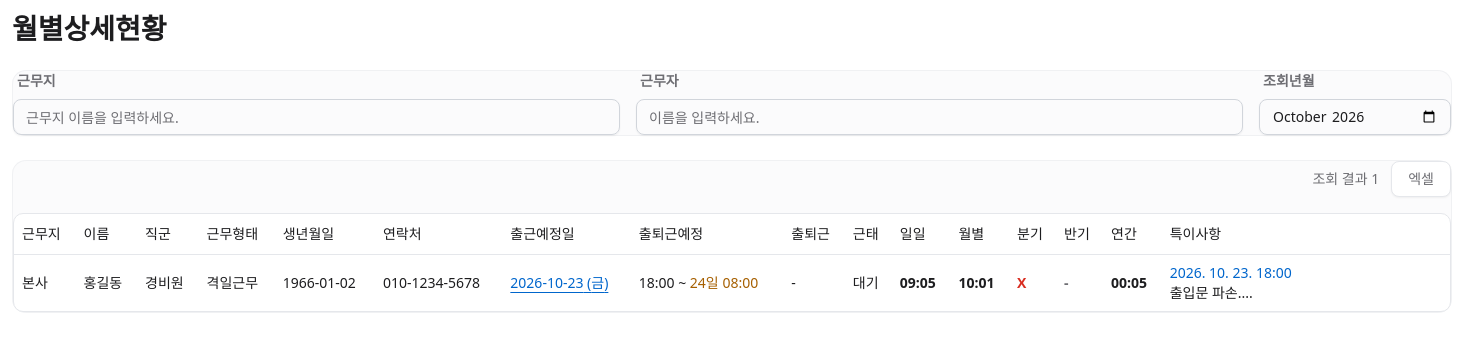
Scenario: shows the copied monthly attendance screen under its new title with worksite search and detail links
The width and height of the screenshot is (1464, 358).
Expected: the field labelled "조회년월" holds "2026-10", [1259,99,1451,135]
Expected: the button "엑셀" is enabled, [1391,161,1451,197]
In the field labelled "근무지": (316, 117) [13,99,620,135], type "없는근무지"
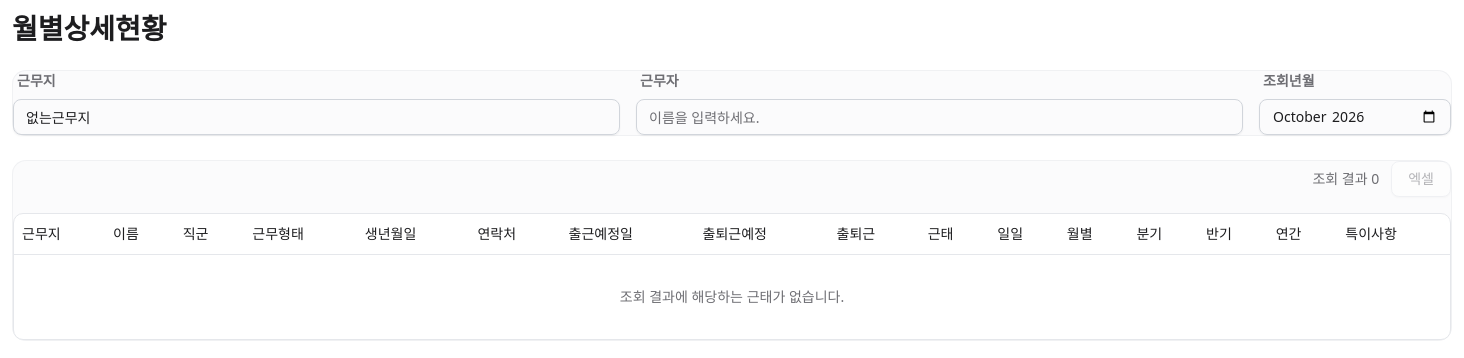
Expected: the text "조회 결과 0" is shown, [1312,169,1379,189]
